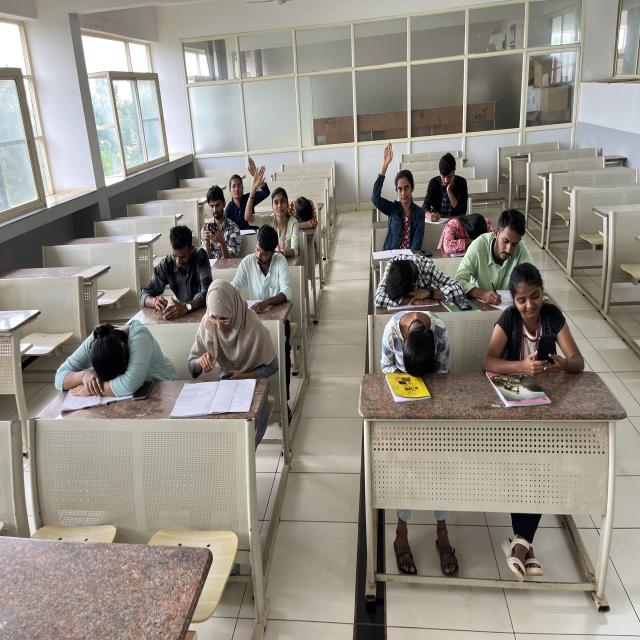Hand Rising: (368, 140, 424, 241), (246, 162, 298, 243), (222, 155, 266, 222)
Sleeping: (52, 320, 159, 392), (378, 308, 458, 374), (377, 248, 460, 306), (442, 212, 500, 256), (287, 193, 327, 233)
Using Phone: (485, 262, 588, 376), (138, 224, 213, 320), (194, 184, 240, 254)
Writing: (460, 208, 546, 310), (421, 150, 470, 222)
